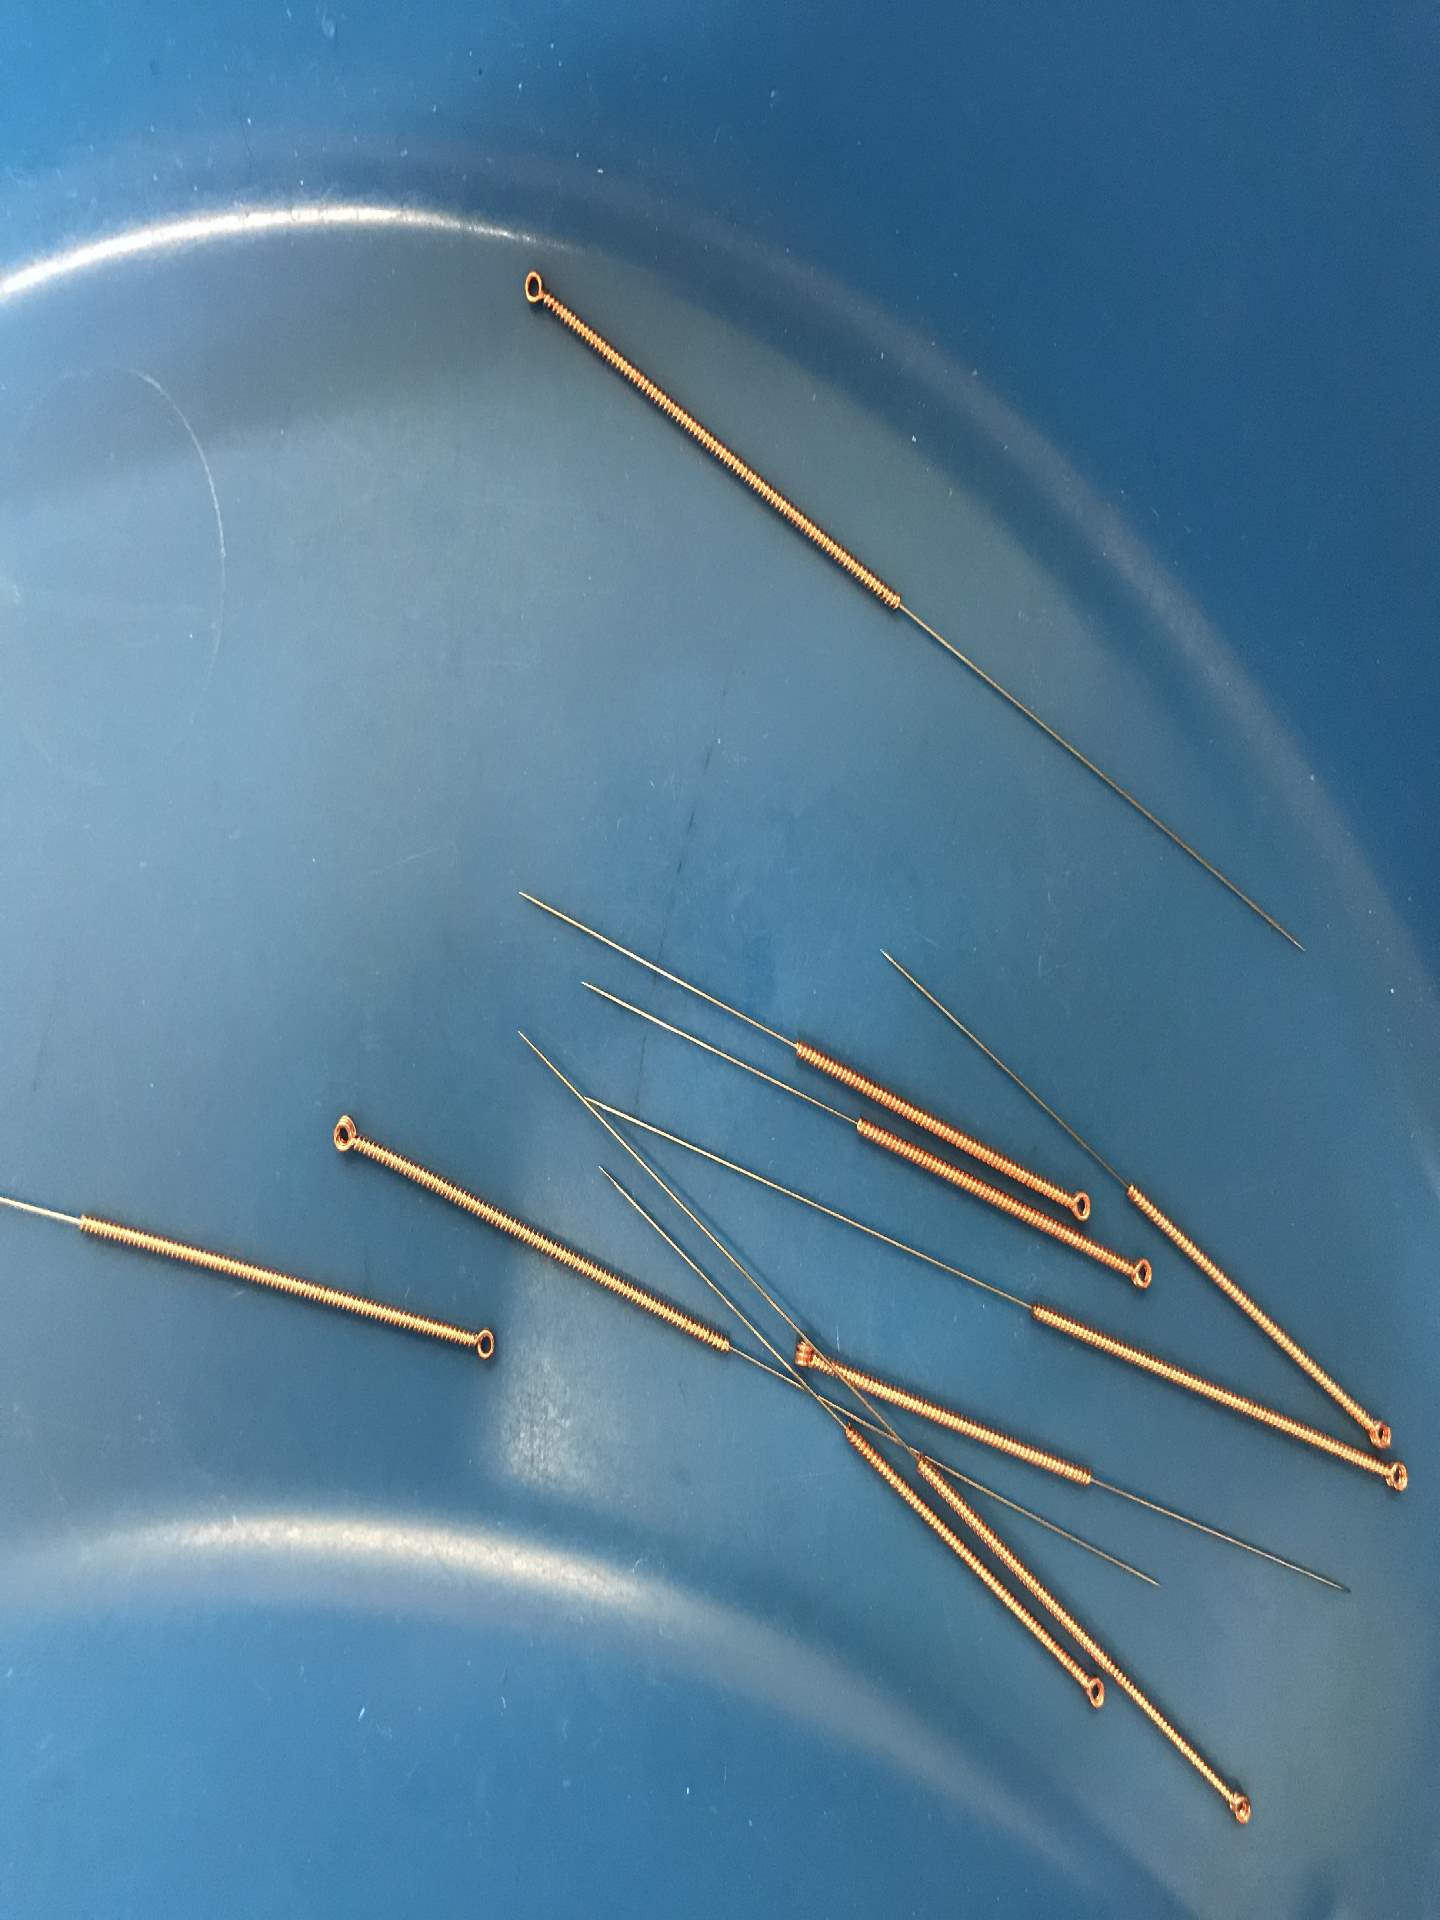needle: (507, 259, 561, 321), (318, 1107, 374, 1164), (455, 1314, 507, 1374), (1215, 1776, 1263, 1837), (1367, 1454, 1420, 1503), (1066, 1666, 1112, 1719), (785, 1327, 830, 1380), (1118, 1249, 1163, 1300), (1056, 1179, 1100, 1231), (1358, 1401, 1401, 1454)
